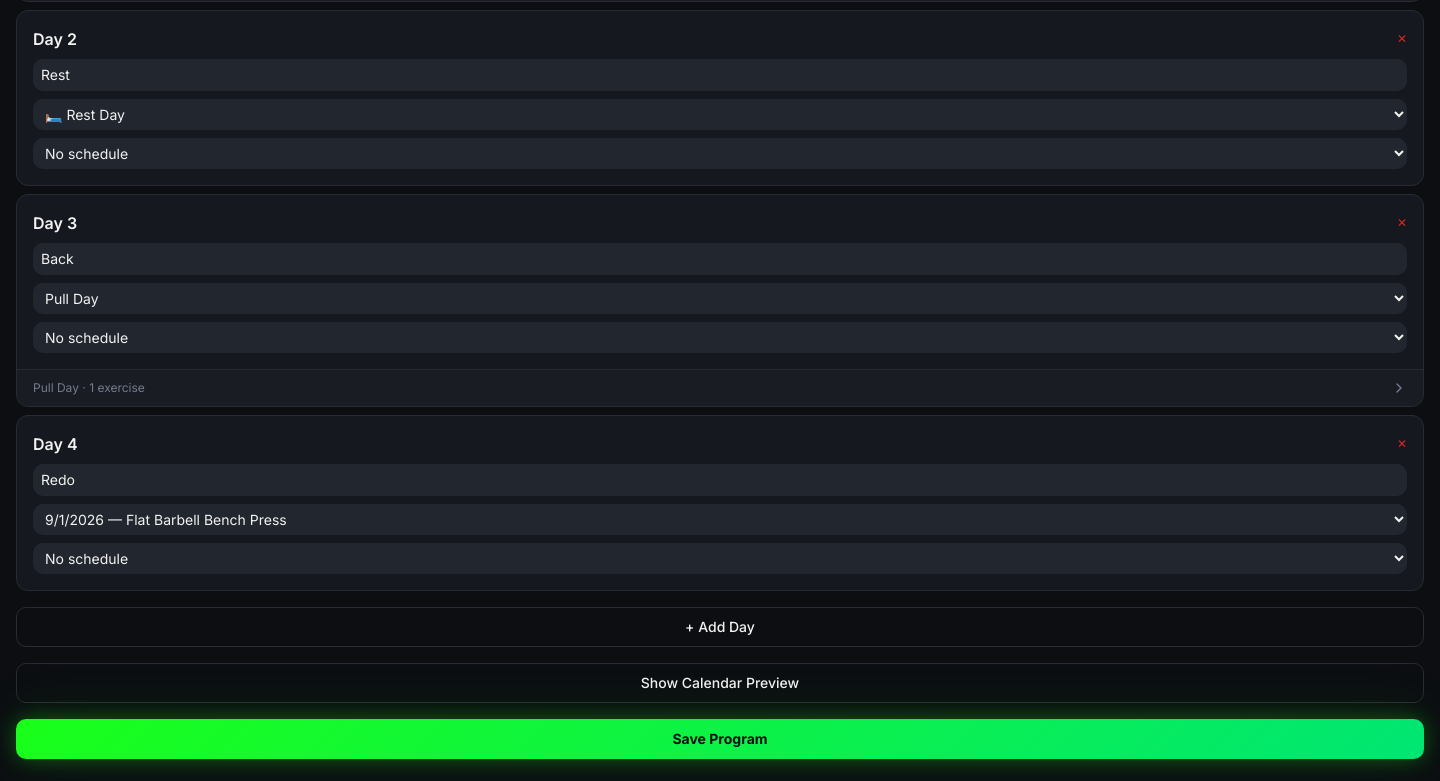
Test: ProgramBuilder tiles › keeps the tiles below a removed day open
(page scrolled)
Click the button "Pull Day · 1 exercise": (56, 388) [17, 369, 1423, 406]
(page scrolled)
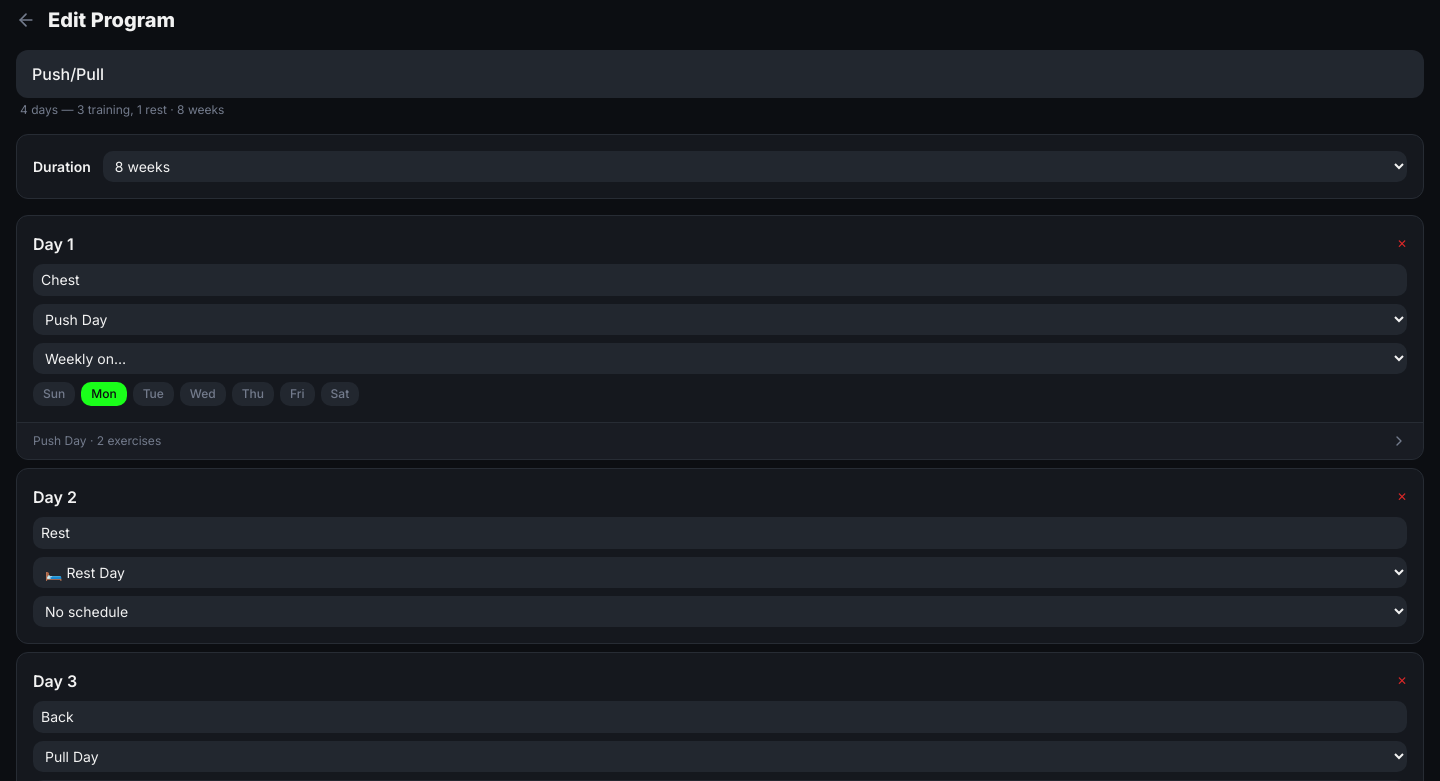
Click the button named "Remove day 1": (1402, 244) [1397, 236, 1407, 252]
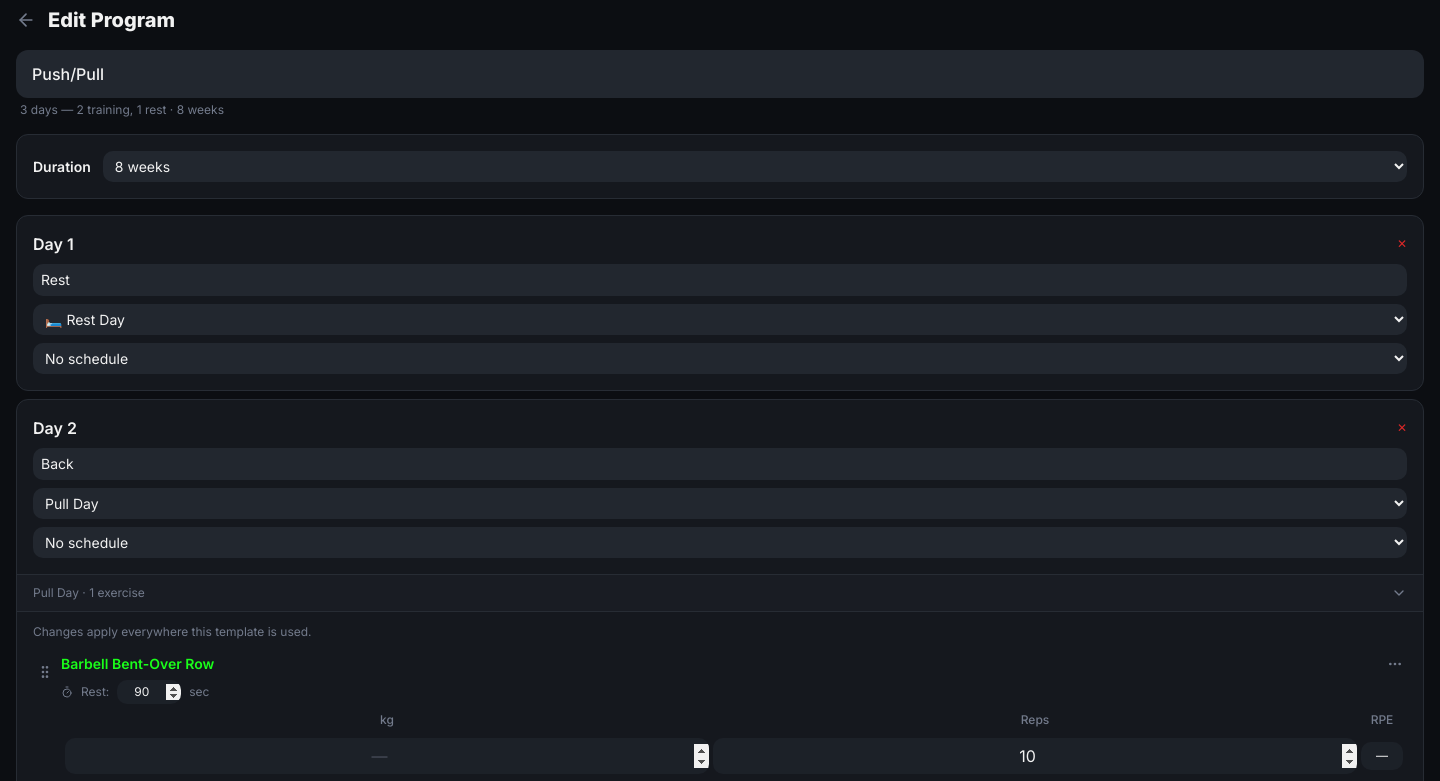
Expected: the button "Pull Day · 1 exercise" is expanded, [17, 574, 1423, 611]
Expected: the heading "Barbell Bent-Over Row" is shown, [61, 654, 214, 674]
Expected: the dropdown named "Workout for day 2" shows "Pull Day", [33, 488, 1407, 519]
